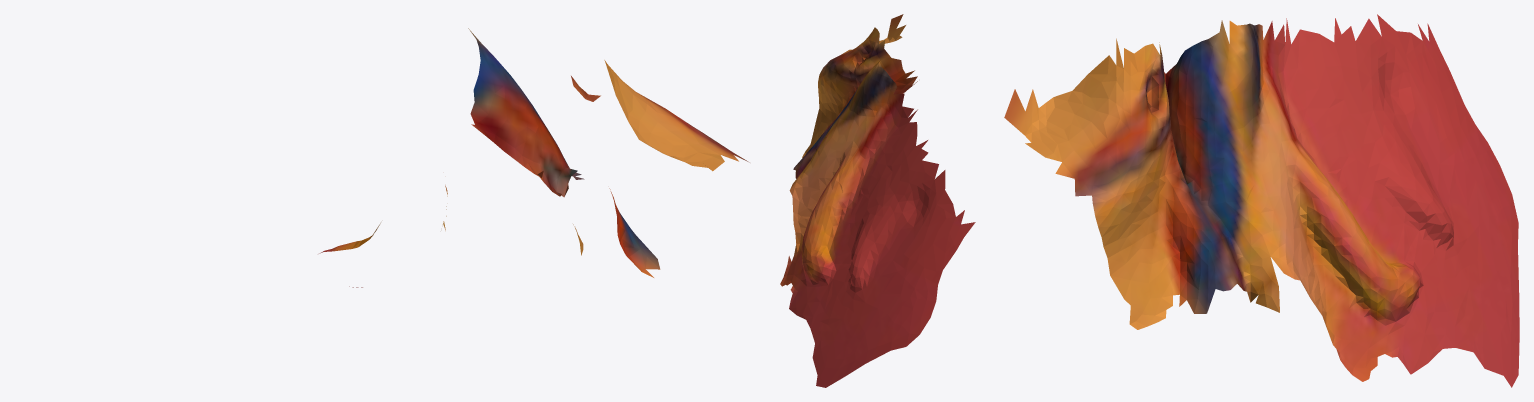
3 views of the same model, side by side, from view 1: azimuth 30°, elevation 25°; view 2: azimuth 150°, elevation 25°; view 3: azimuth 270°, elevation 25° (orthographic). The views are drawn at different scales.
Visible parts, largest first — view 1: tripo_mesh_045d8eb0-72ec-4624-9759-a425f321d17a; view 2: tripo_mesh_045d8eb0-72ec-4624-9759-a425f321d17a; view 3: tripo_mesh_045d8eb0-72ec-4624-9759-a425f321d17a.
Boxes of the visible parts, x1,y1,x2,y2 form: tripo_mesh_045d8eb0-72ec-4624-9759-a425f321d17a: (319,28,749,287); tripo_mesh_045d8eb0-72ec-4624-9759-a425f321d17a: (780,14,975,387); tripo_mesh_045d8eb0-72ec-4624-9759-a425f321d17a: (1004,14,1519,387).
Bounding box in the file's own units: 0.1379 × 0.1275 × 0.1504.
1 material, 1 textured.
